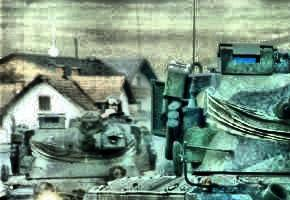tanks: (86, 45, 290, 200), (6, 112, 154, 200)
